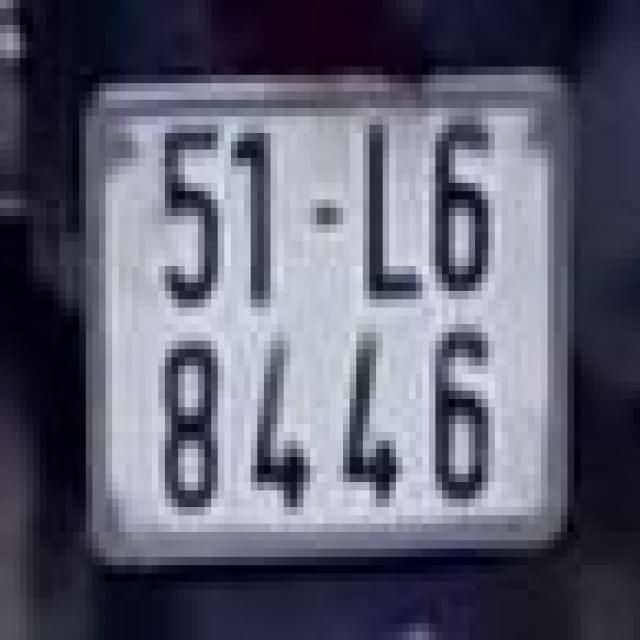1: (231, 120, 290, 337)
4: (333, 324, 412, 515), (244, 320, 317, 519)
5: (148, 112, 228, 320)
6: (422, 320, 508, 519), (429, 112, 508, 304)
8: (155, 332, 234, 532)
L: (346, 112, 426, 312)
